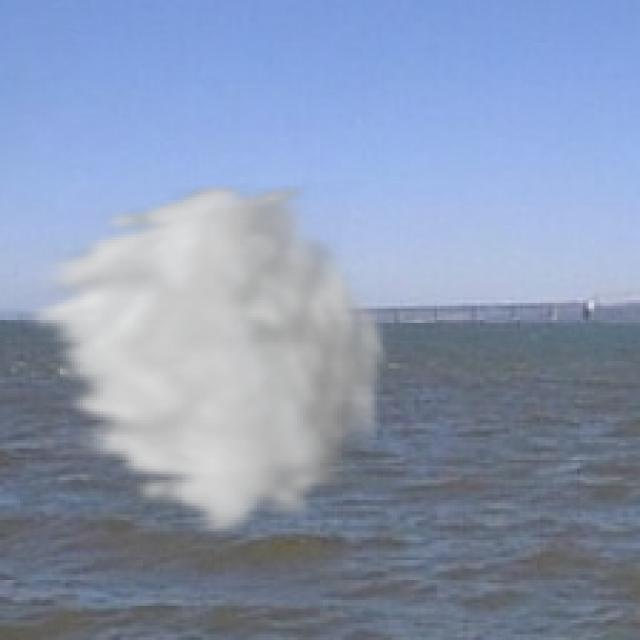Smoke: (14, 180, 394, 540)
